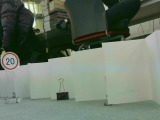speed_20: (1, 51, 21, 71)
